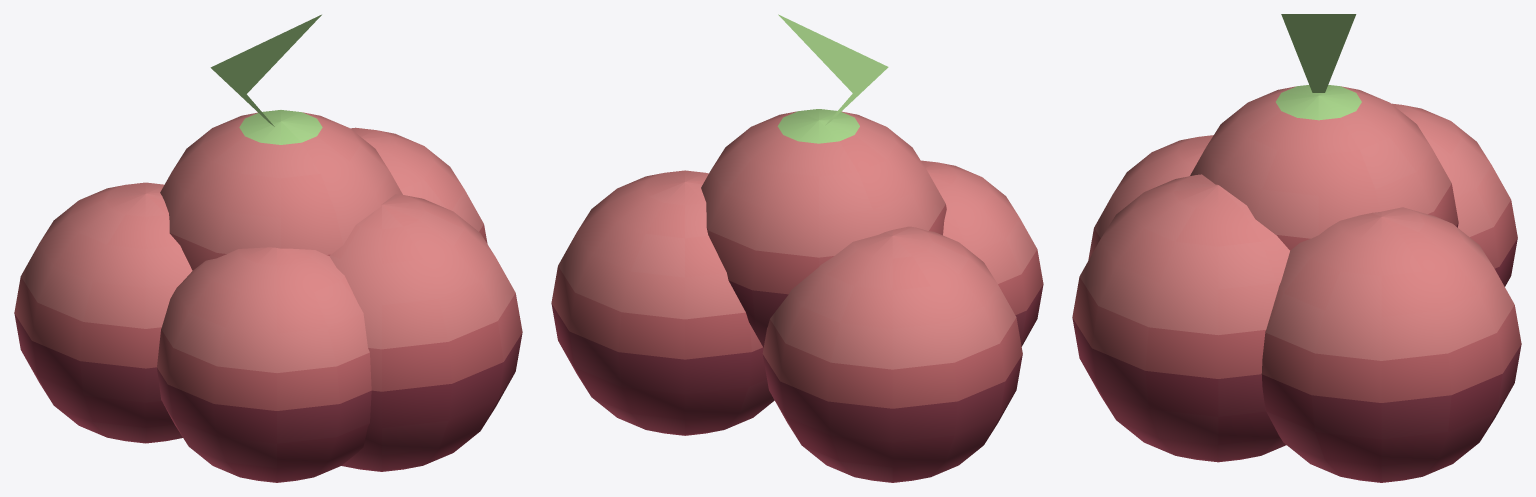
The model's file is Wild_Berries.glb.
The picture shows the model from 3 angles, left to right: view 1: azimuth 30°, elevation 25°; view 2: azimuth 150°, elevation 25°; view 3: azimuth 270°, elevation 25°; orthographic projection. The views are drawn at different scales.
Parts seen in each view (by area): view 1: WildBerries; view 2: WildBerries; view 3: WildBerries.
Part boxes in pixels (x1,y1,x2,y2): WildBerries: [14, 14, 522, 482]; WildBerries: [551, 14, 1043, 482]; WildBerries: [1072, 14, 1521, 482].
Size of the model in its own units: 0.4201 by 0.3763 by 0.3578.
